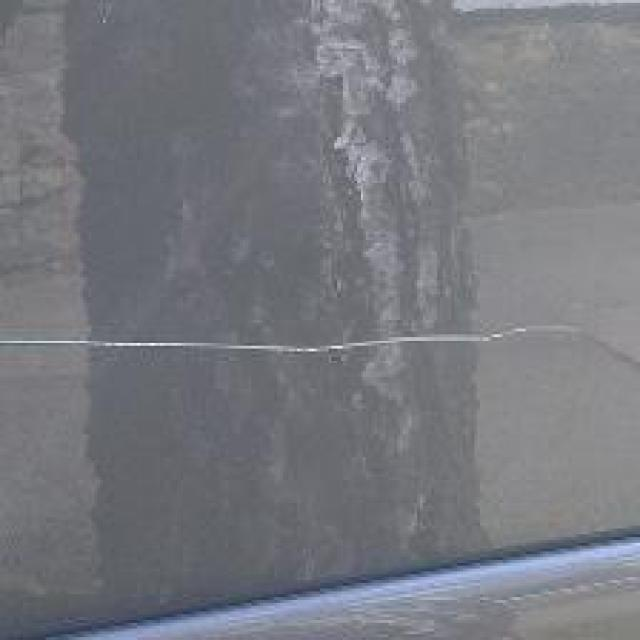damaged: (2, 320, 638, 386)
